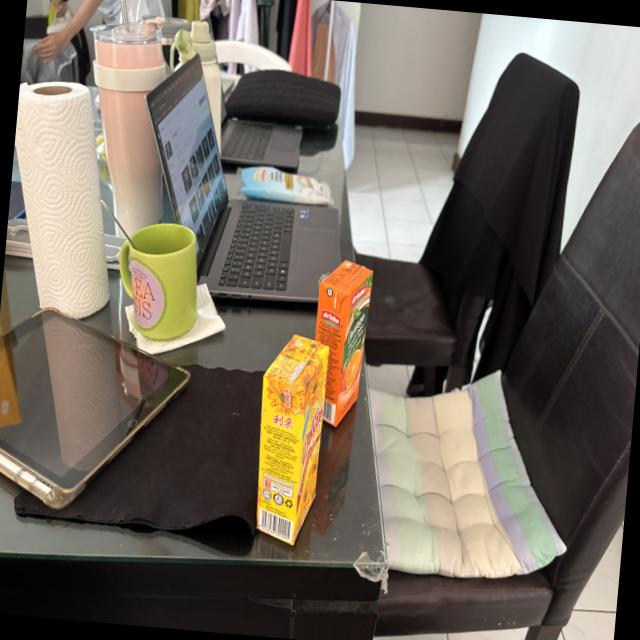drink_carton: (244, 324, 337, 556), (300, 248, 382, 437)
